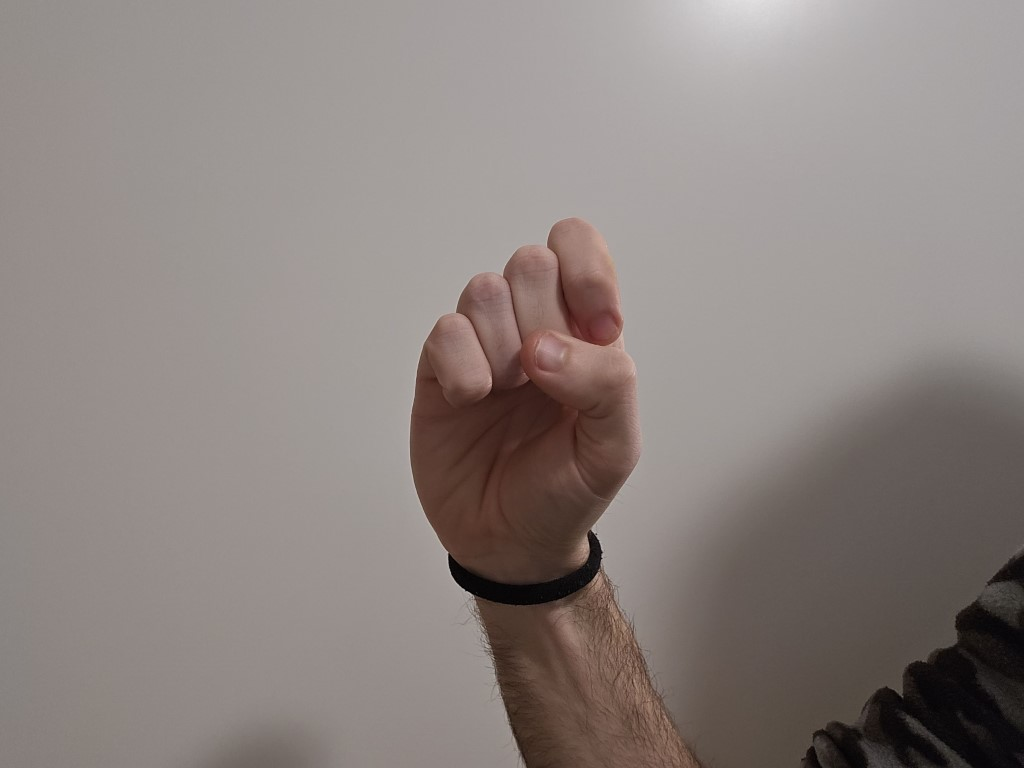s: (374, 191, 670, 560)
